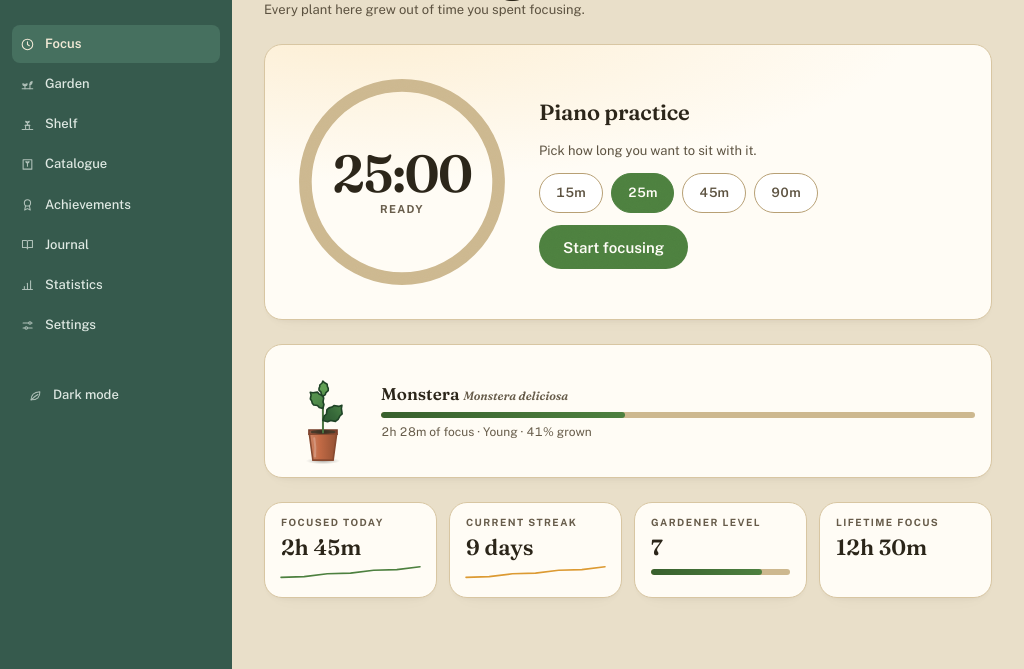
Test: discarding a session › discards at once when the confirmation is turned off
Check: the button "Start focusing" is shown, box [539,225,688,269]
Click the button "Settings" at point(116, 325), box [12,306,220,344]
(page scrolled)
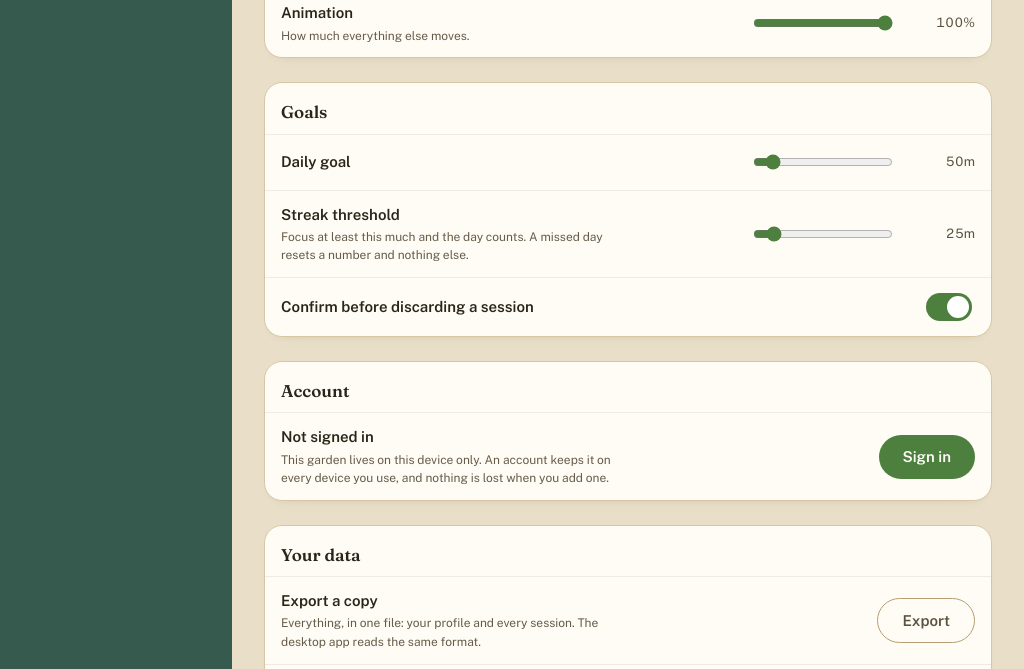
Click the checkbox named "Confirm before discarding a session" at point(949, 307), box [926,293,972,321]
(page scrolled)
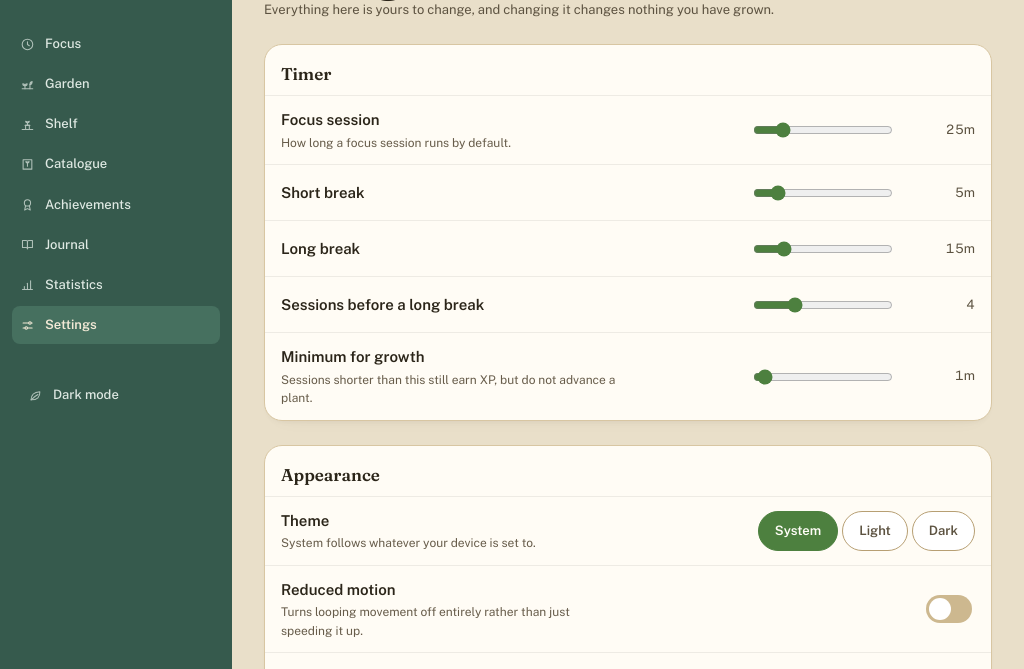
Click the button "Focus" at point(116, 44), box [12,25,220,63]
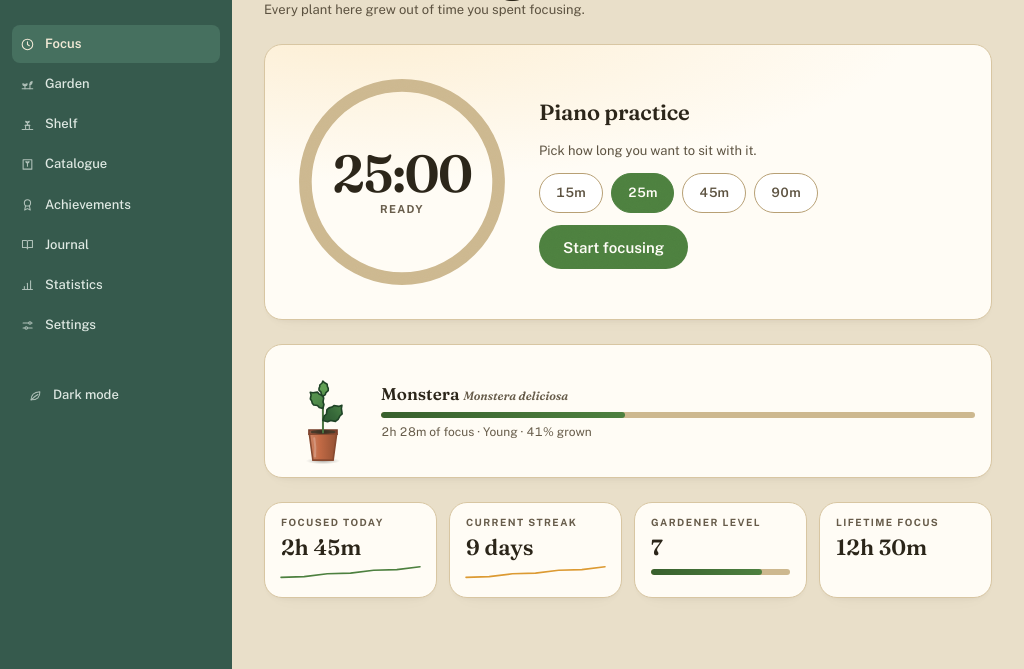
Click the button "Start focusing" at point(614, 247), box [539,225,688,269]
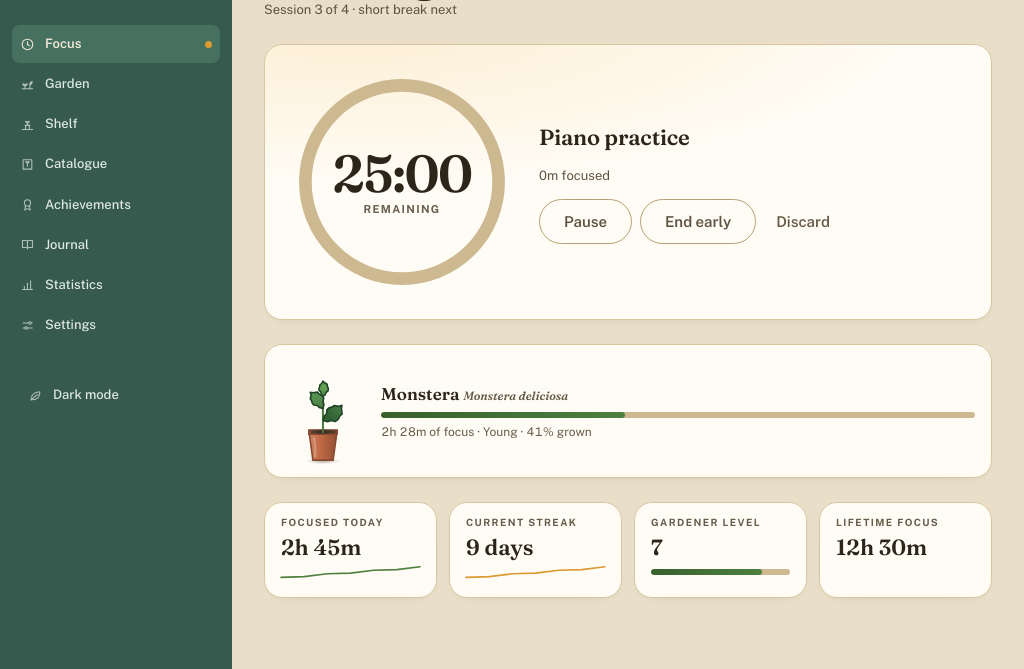
Click the button "Discard" at point(803, 221), box [764,199,842,244]
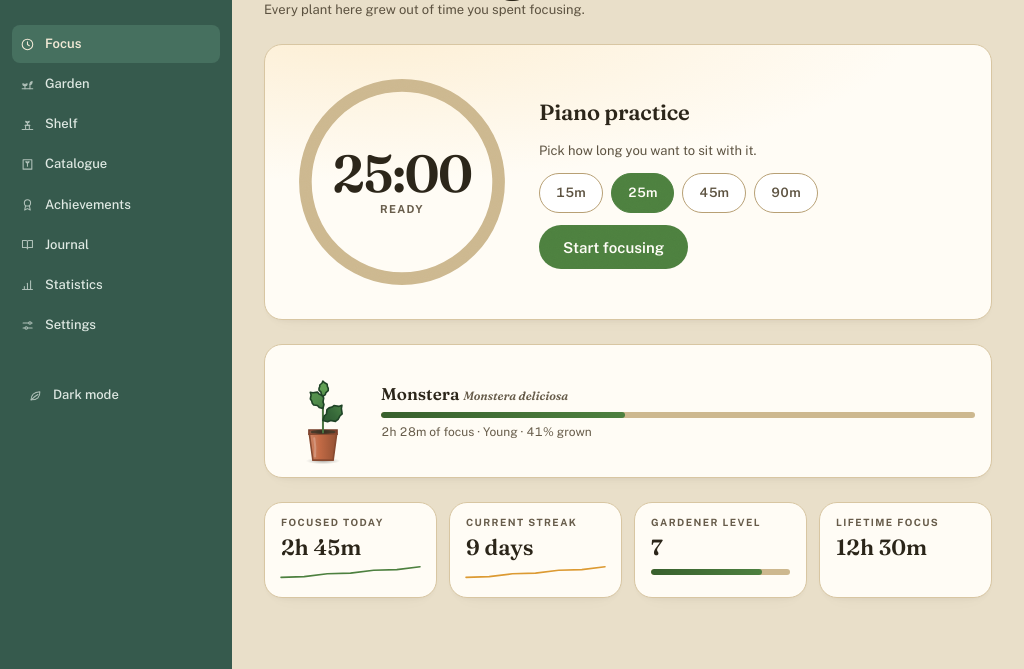
Check: the button "Start focusing" is shown, box [539,225,688,269]
